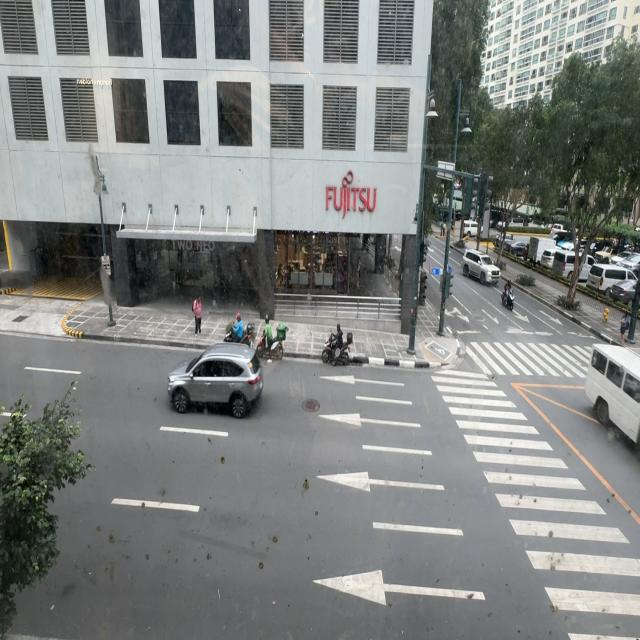pedestrain: (192, 295, 201, 335)
waiting: (620, 312, 629, 343)
